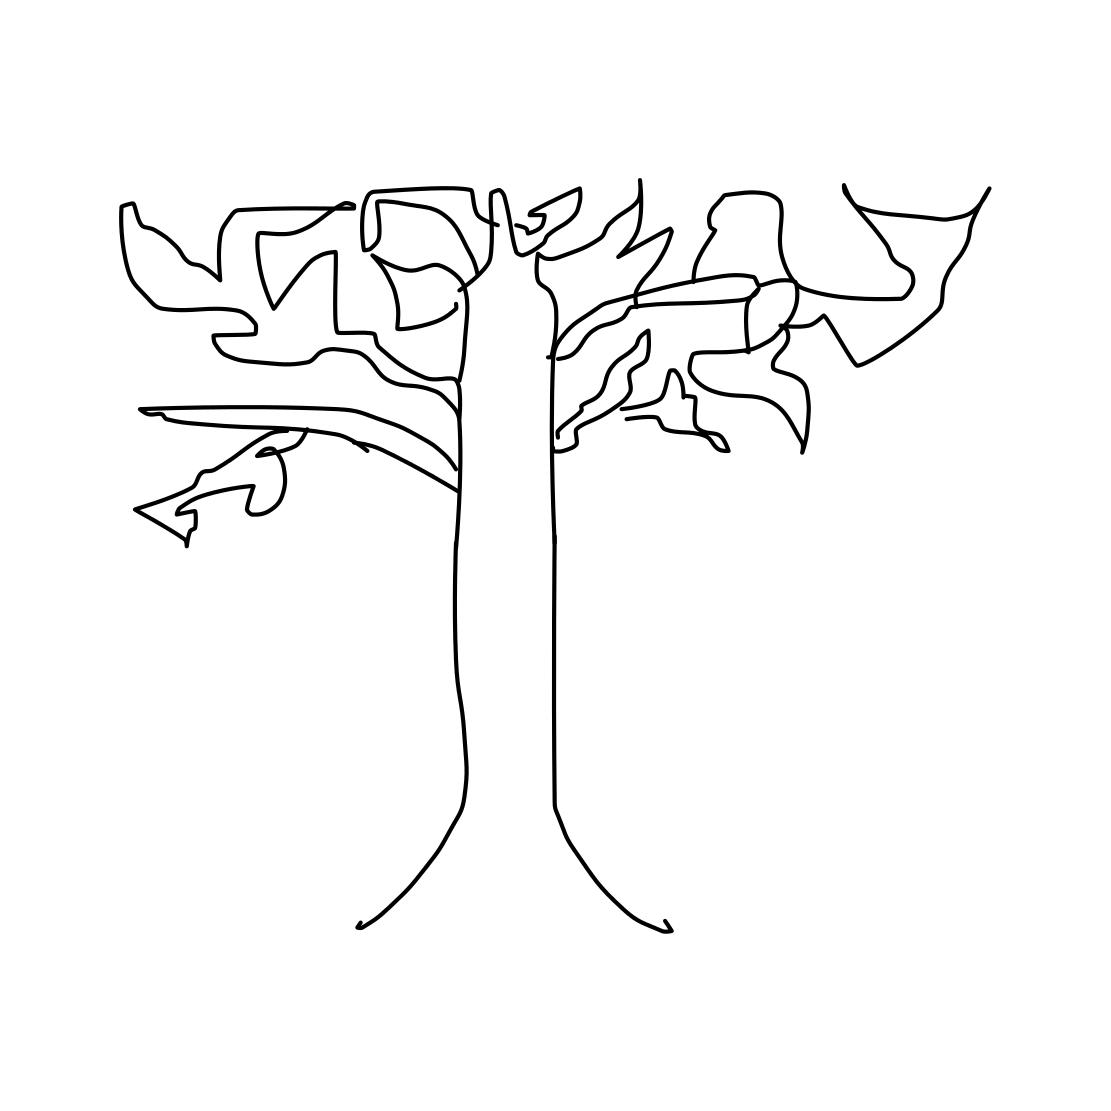Tree: (66, 121, 1001, 946)
